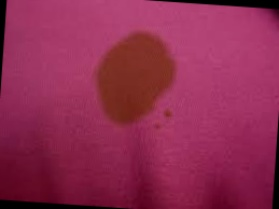oil: (88, 27, 178, 135)
